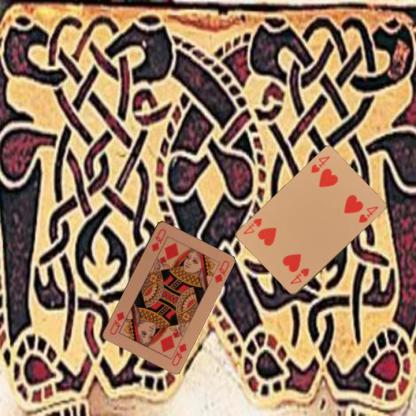4h: (308, 154, 332, 174), (287, 266, 310, 286)
Qd: (167, 336, 188, 367), (148, 226, 167, 254)
